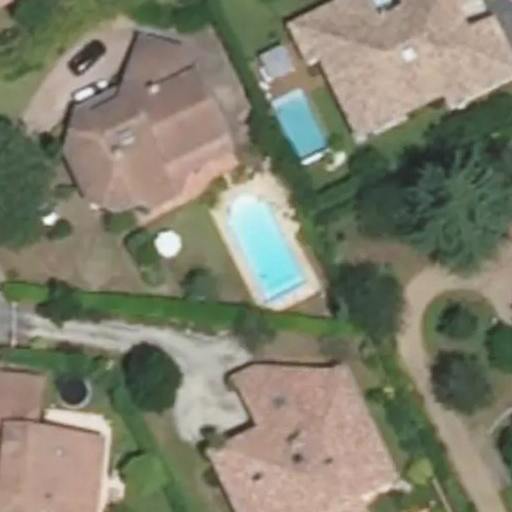pool: (226, 194, 306, 298), (275, 92, 327, 161)
